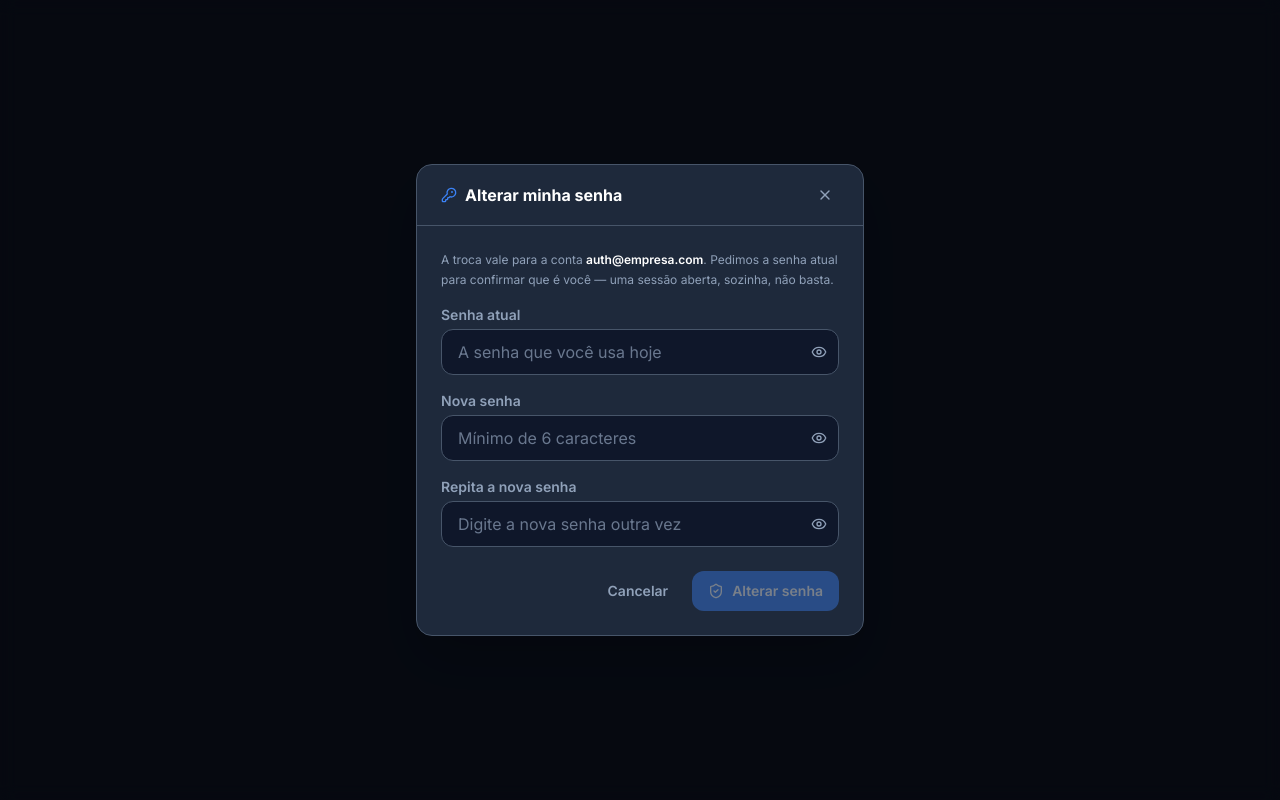
Scenario: AlterarSenhaModal › mostra a mensagem do servidor e MANTÉM o formulário aberto e preenchido
Type "errada" into the password field with id "senha-atual".
click(640, 352); type("errada")  # box [441, 329, 839, 375]
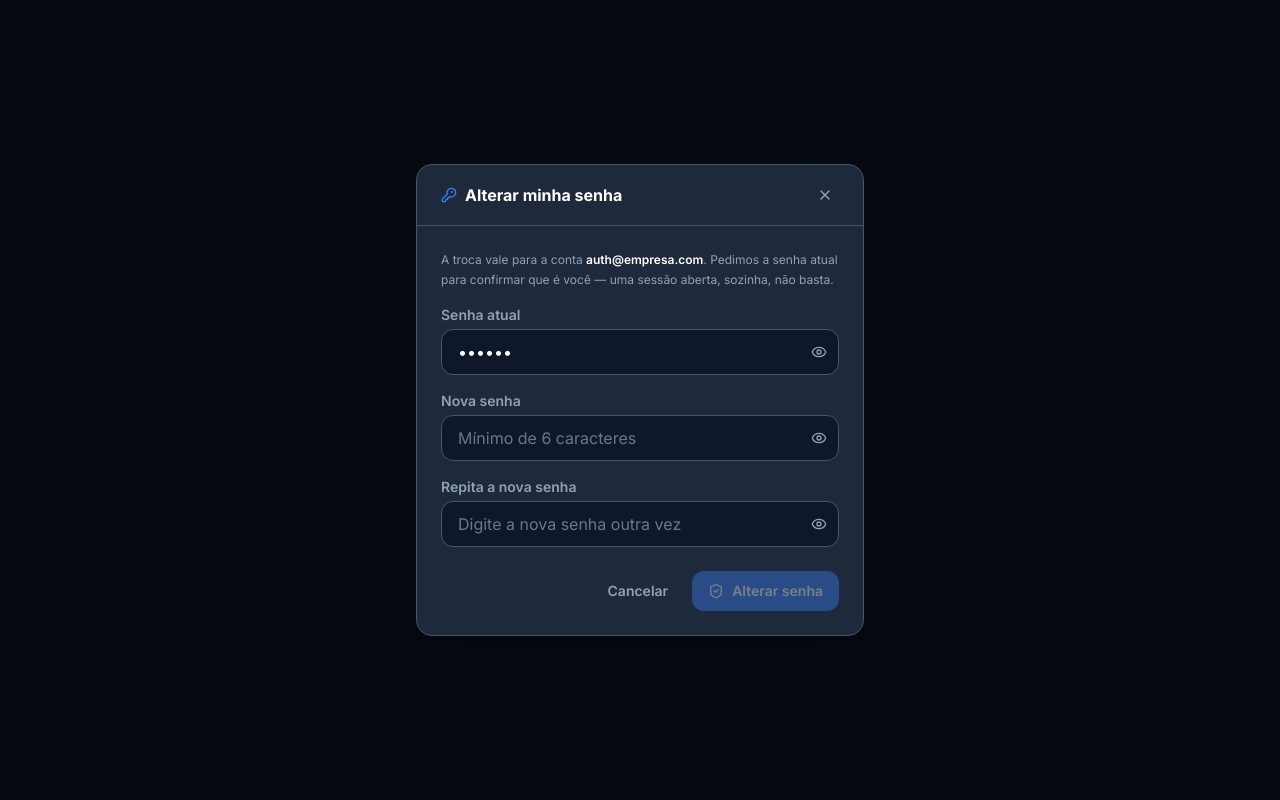
Type "NovaSenha!2026" into the password field with id "senha-nova".
click(640, 438); type("NovaSenha!2026")  # box [441, 415, 839, 461]
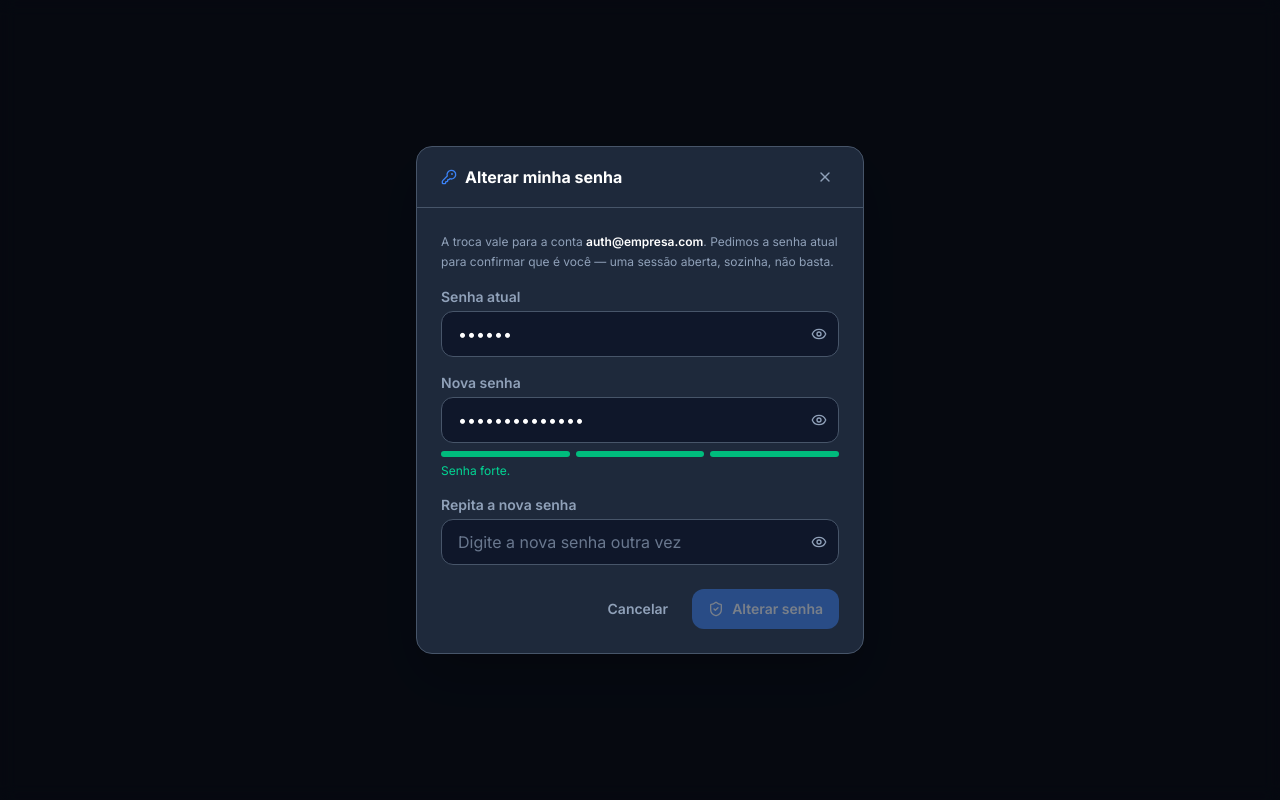
Type "NovaSenha!2026" into the password field with id "senha-confirmacao".
click(640, 542); type("NovaSenha!2026")  # box [441, 519, 839, 565]
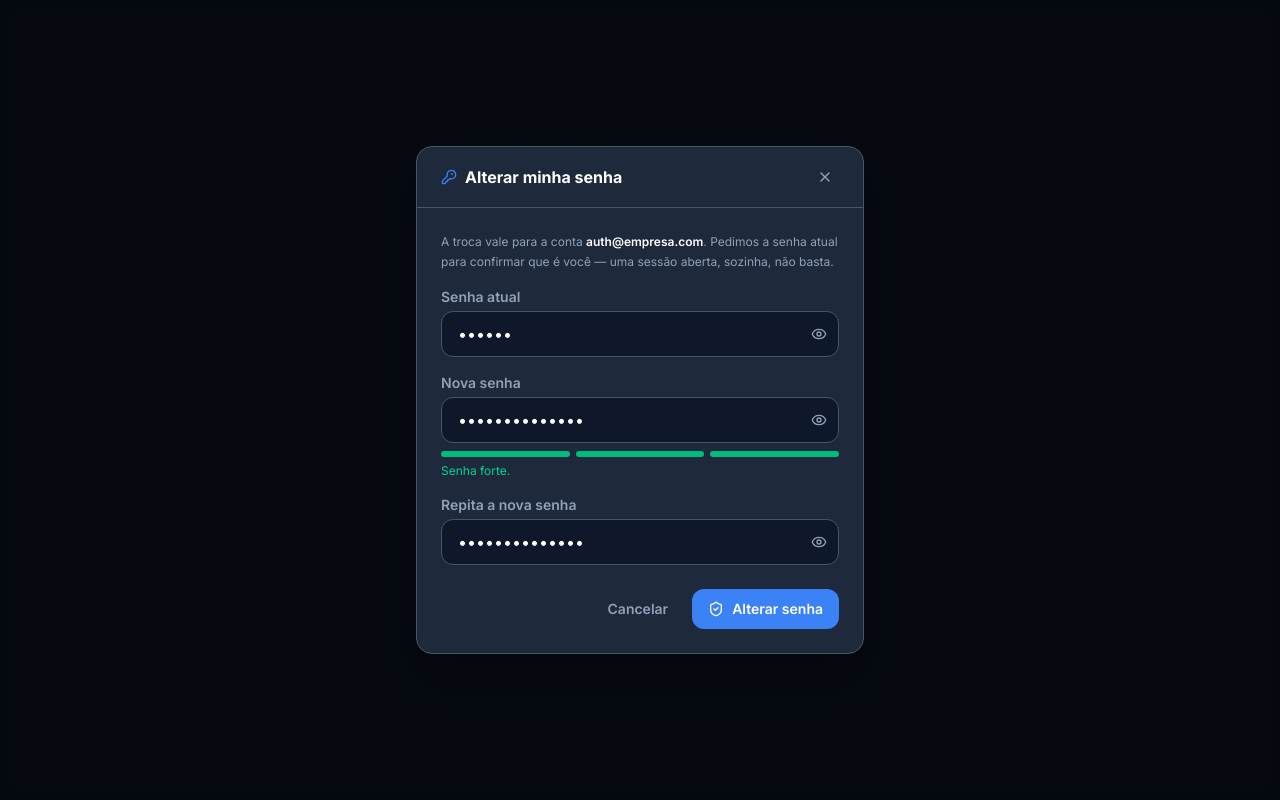
Submit the form, box [417, 208, 863, 653]
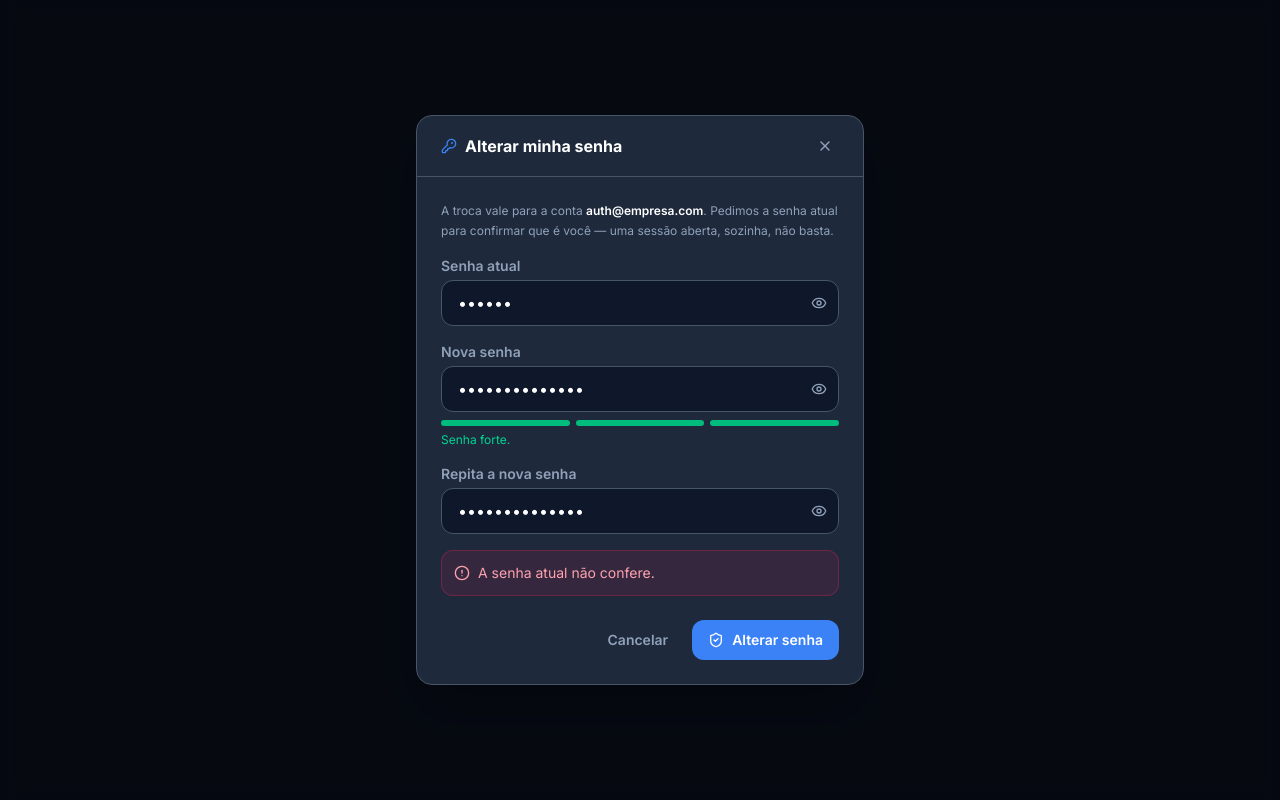
Now the text "A senha atual não confere." is shown, box [478, 563, 655, 583]
